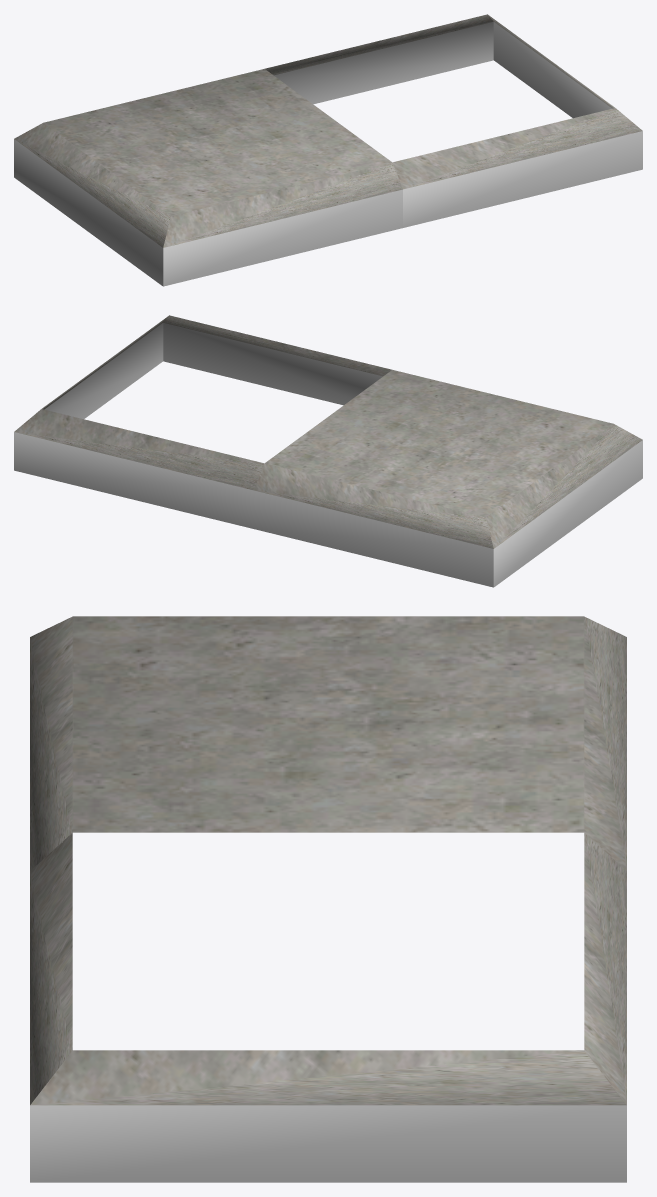
The model's file is DWARF_PALACE_ARKENSTONE_OBLISK_BASE.obj.
3 views of the same model, one above another, from view 1: azimuth 30°, elevation 25°; view 2: azimuth 150°, elevation 25°; view 3: azimuth 270°, elevation 25° (orthographic). The views are drawn at different scales.
Visible parts, largest first — view 1: one_oblisk_base; view 2: one_oblisk_base; view 3: one_oblisk_base.
Part boxes in pixels (x1,y1,x2,y2): one_oblisk_base: (14, 14, 642, 286); one_oblisk_base: (14, 315, 642, 587); one_oblisk_base: (30, 616, 626, 1182).
Bounding box in the file's own units: 260 × 30 × 140.
